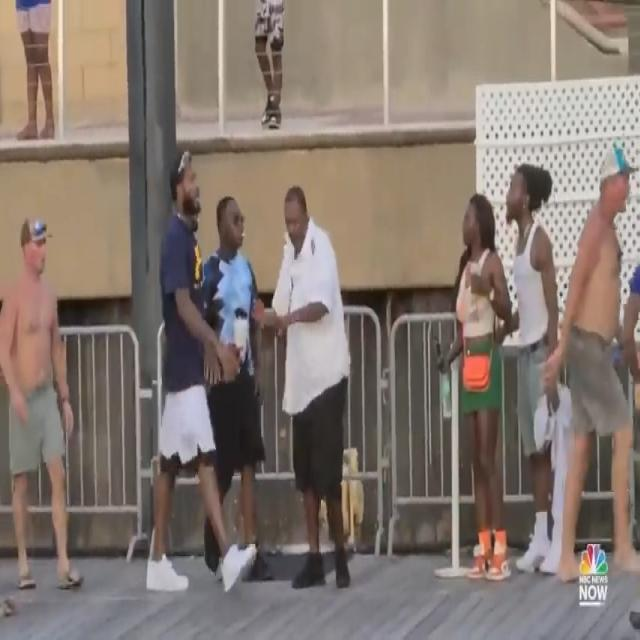non-fight: (142, 142, 350, 600), (432, 134, 640, 588), (0, 212, 87, 598)
